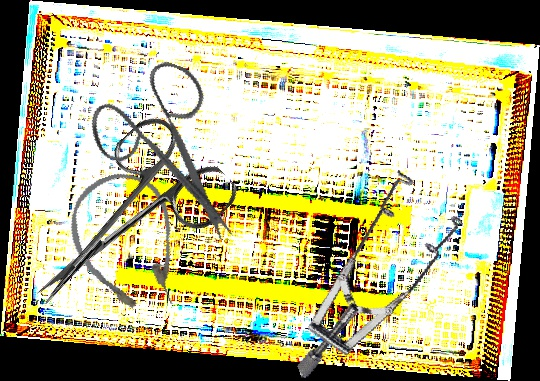Cannula: (56, 161, 198, 329)
Iris Scissors: (0, 104, 244, 345), (68, 44, 282, 245)
Speculum: (246, 156, 494, 379)
